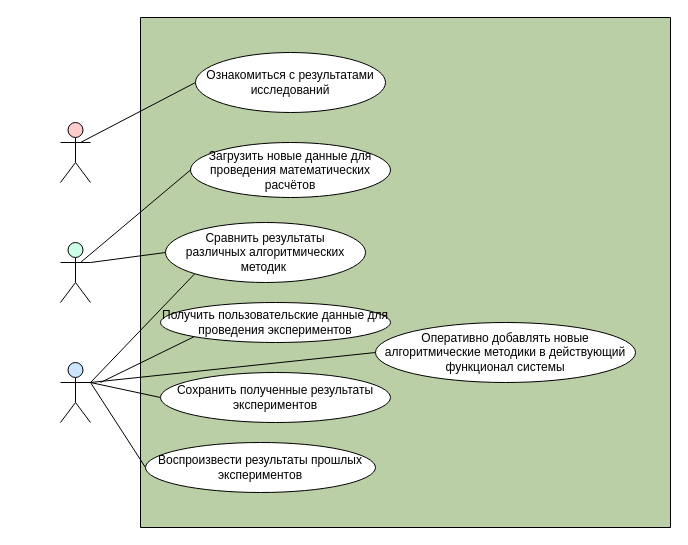
This 688x545 diagram has some shape labels left out. Here are the shapes that lost their labels. From the top down, the box of each, then its label:
(60, 122, 90, 182): Технический эксперт
(60, 242, 90, 302): Аналитик
(60, 362, 90, 422): Исследователь
